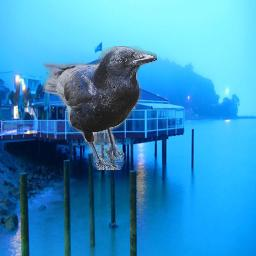Crow: (43, 46, 157, 170)
